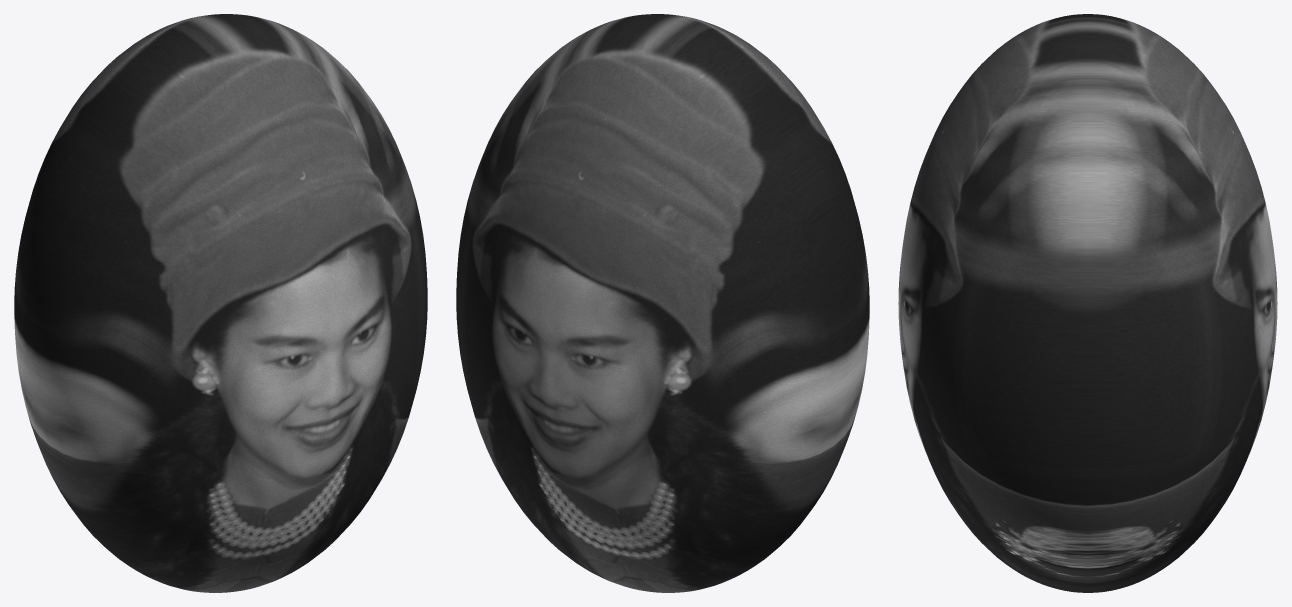
3 views of the same model, side by side, from view 1: azimuth 30°, elevation 25°; view 2: azimuth 150°, elevation 25°; view 3: azimuth 270°, elevation 25° (orthographic).
Parts seen in each view (by area): view 1: head; view 2: head; view 3: head.
Part boxes in pixels (x1,y1,x2,y2): head: [14, 14, 427, 592]; head: [456, 14, 869, 592]; head: [898, 14, 1277, 592].
Bounding box in the file's own units: 1.39 × 2 × 1.25.
1 material, 1 textured.
